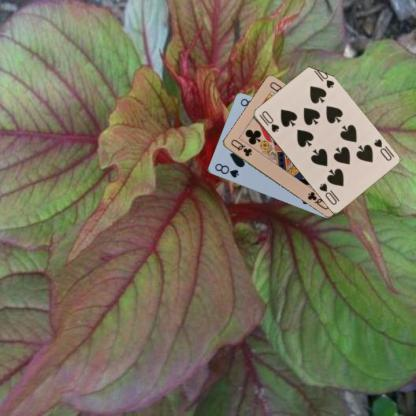10s: (256, 108, 280, 134), (371, 136, 393, 162)
8s: (212, 161, 240, 179)
Qc: (228, 137, 253, 158)
